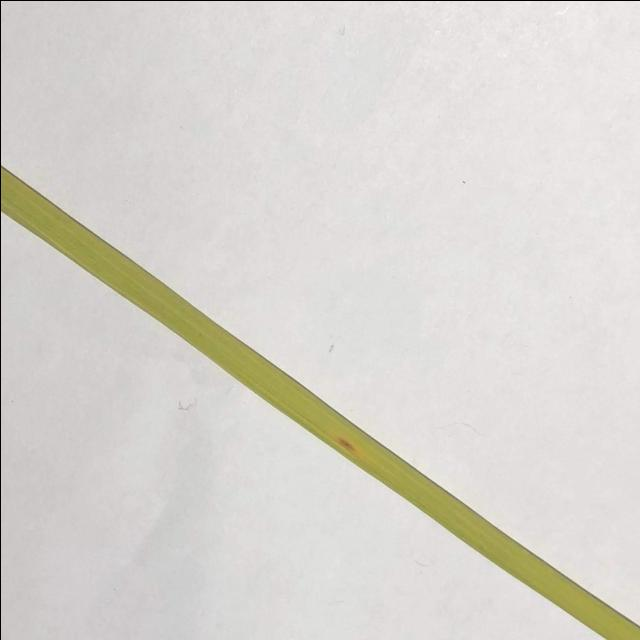Brown spot: (328, 430, 373, 456)
